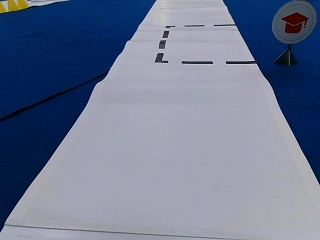school: (272, 1, 316, 42)
